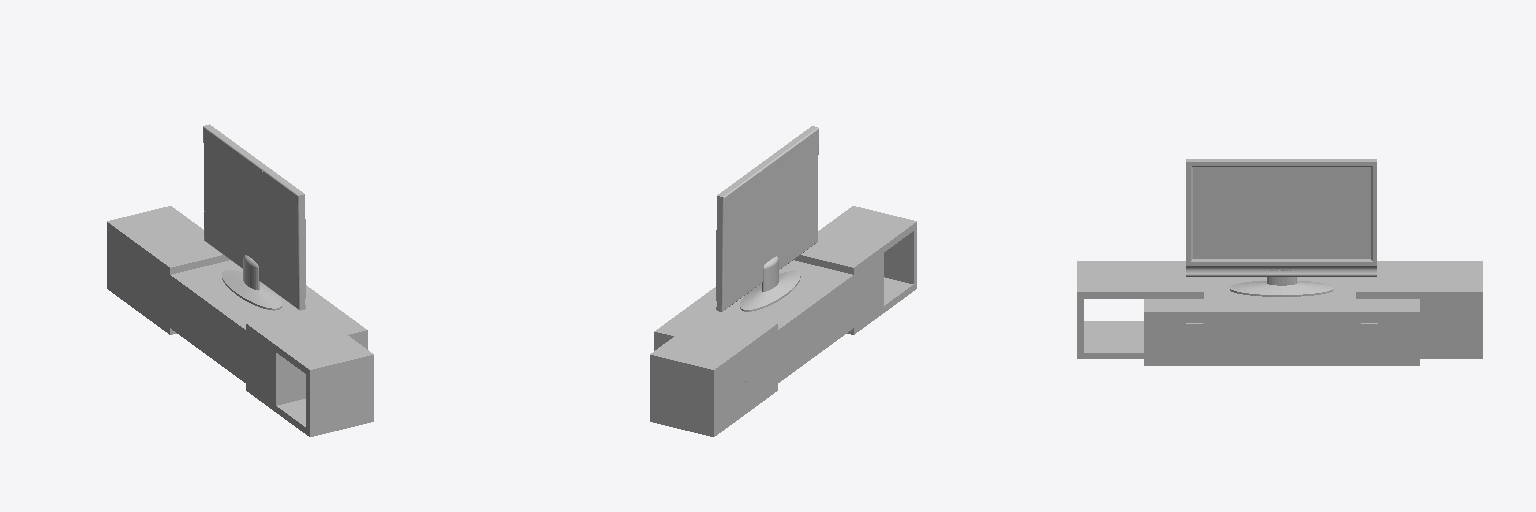
3 views of the same model, side by side, from view 1: azimuth 30°, elevation 25°; view 2: azimuth 150°, elevation 25°; view 3: azimuth 270°, elevation 25° (orthographic).
Visible parts, largest first — view 1: Group_003, TV_Panasonic_001, Group_001, Group_002, Component_1_001; view 2: TV_Panasonic_001, Group_003, Group_002, Group_001, Component_1_001; view 3: TV_Panasonic_001, Group_004, Group_002, Group_001, Group_003, Component_1_001, dragka_1_001.
Boxes of the visible parts, <box> form: Group_003: <box>138,252,363,405</box>; TV_Panasonic_001: <box>203,124,305,310</box>; Group_001: <box>246,308,373,436</box>; Group_002: <box>107,206,229,334</box>; Component_1_001: <box>222,255,281,310</box>; TV_Panasonic_001: <box>716,126,818,311</box>; Group_003: <box>658,253,883,406</box>; Group_002: <box>650,308,777,436</box>; Group_001: <box>794,206,916,334</box>; Component_1_001: <box>740,256,800,311</box>; TV_Panasonic_001: <box>1186,159,1376,276</box>; Group_004: <box>1144,311,1419,365</box>; Group_002: <box>1356,261,1482,358</box>; Group_001: <box>1077,261,1203,358</box>; Group_003: <box>1144,277,1419,310</box>; Component_1_001: <box>1230,277,1333,296</box>; dragka_1_001: <box>1186,323,1377,326</box>.
Size of the model in its own units: 520 by 993 by 1918.